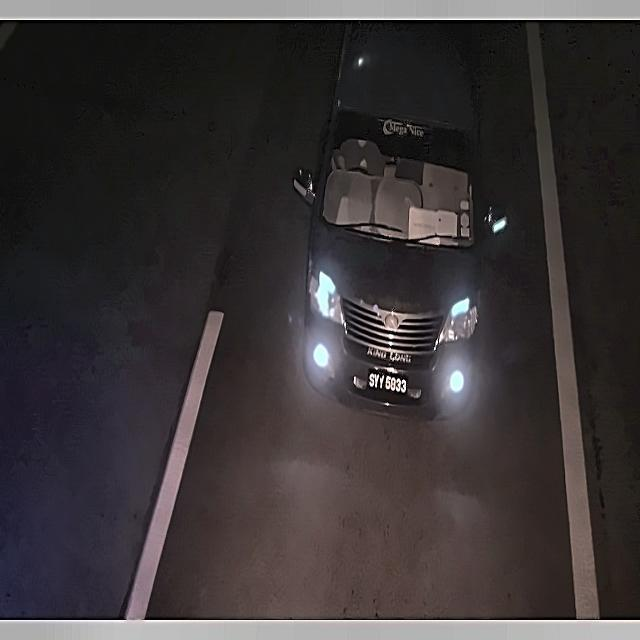car: (362, 366, 414, 401)
